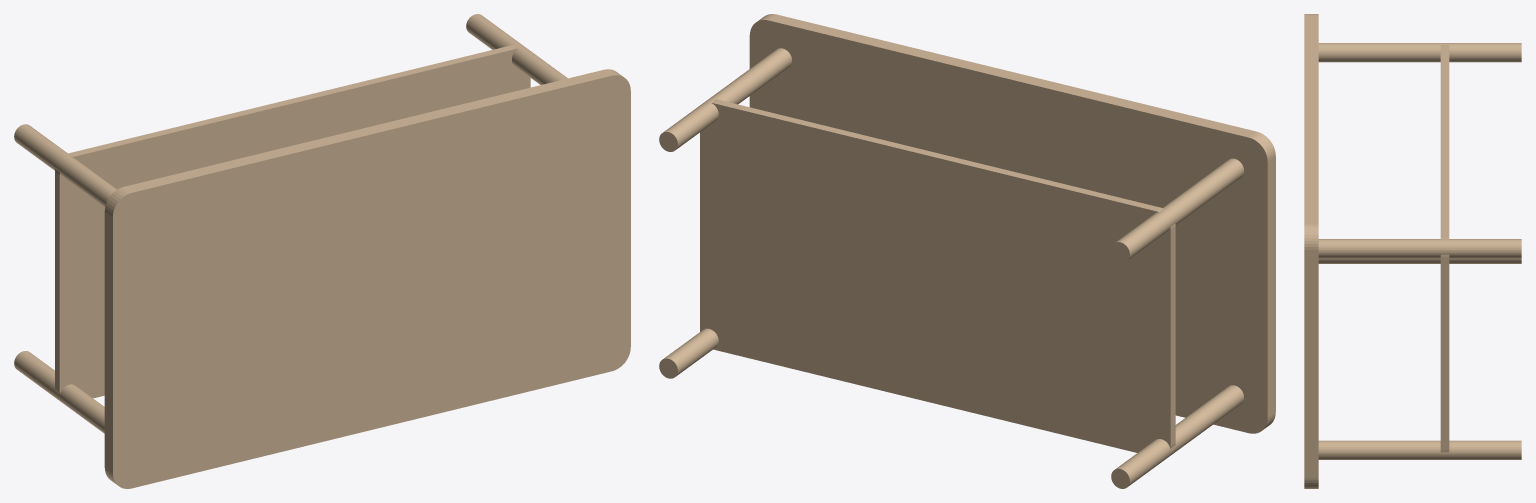
The model's file is coffee_table.glb.
3 renders of one model, left to right at view 1: azimuth 30°, elevation 25°; view 2: azimuth 150°, elevation 25°; view 3: azimuth 270°, elevation 25°, orthographic. The views are drawn at different scales.
Visible parts, largest first — view 1: coffee_table; view 2: coffee_table; view 3: coffee_table.
Boxes of the visible parts, box(x1,y1,x2,y2) form: coffee_table: box(14, 14, 630, 488); coffee_table: box(659, 14, 1275, 488); coffee_table: box(1304, 14, 1521, 488).
Size of the model in its own units: 1100 by 600 by 450.
